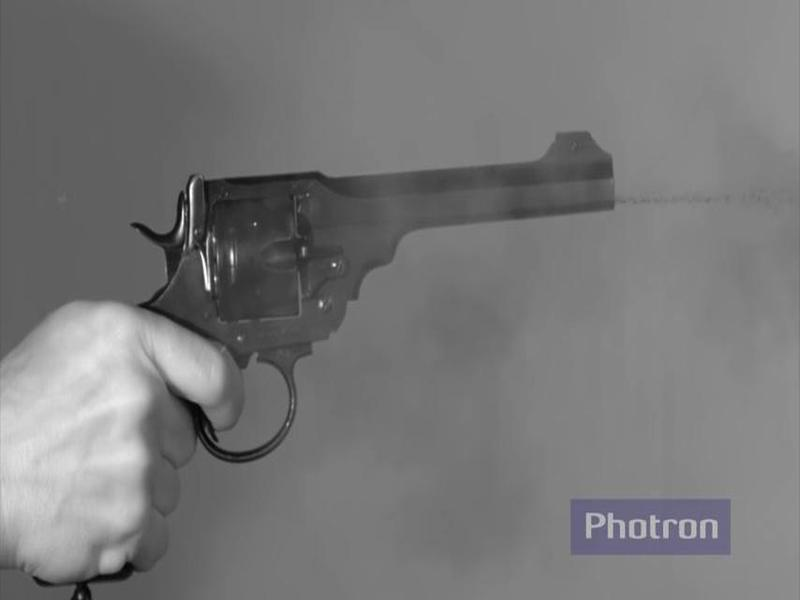Revolver: (74, 115, 639, 433)
